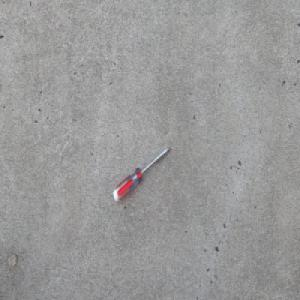Screwdriver: (112, 145, 171, 202)
